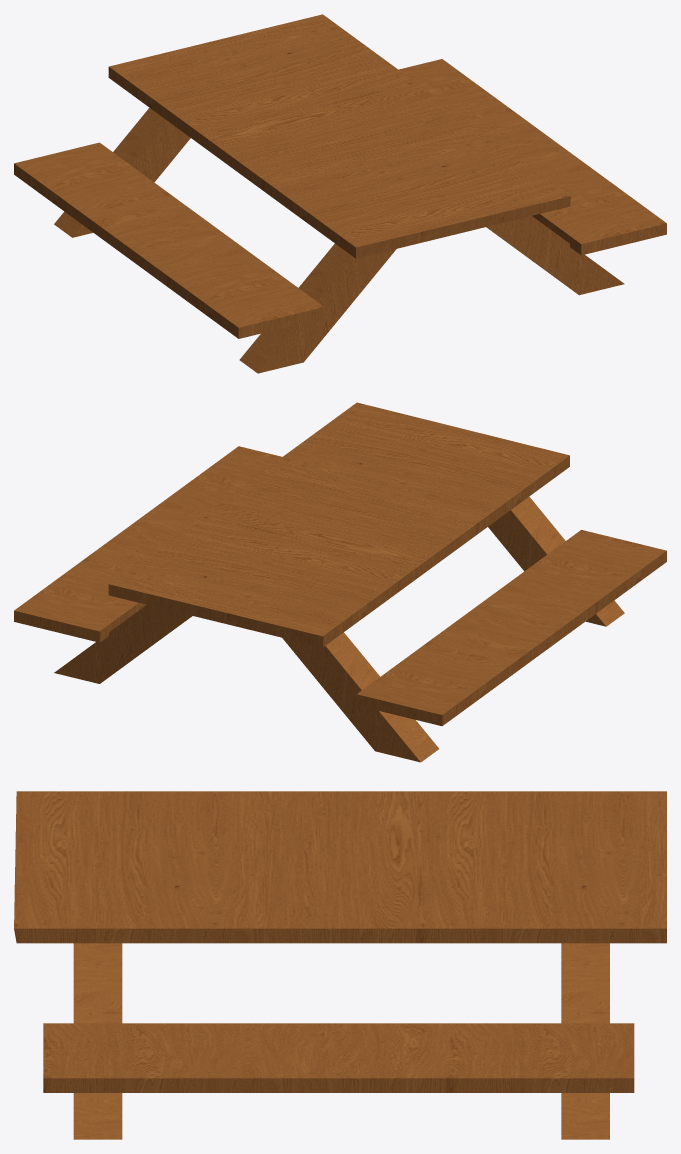
File: picknick_finished.fbx
3 views of the same model, one above another, from view 1: azimuth 30°, elevation 25°; view 2: azimuth 150°, elevation 25°; view 3: azimuth 270°, elevation 25° (orthographic). The views are drawn at different scales.
Visible parts, largest first — view 1: Plane.004, Plane.006, Plane.005, Plane.002, Plane.001, Plane; view 2: Plane.004, Plane.006, Plane.005, Plane, Plane.003, Plane.002; view 3: Plane.004, Plane.005, Plane.001, Plane.003.
Part boxes in pixels (bbox=[...]): Plane.004: bbox=[108, 14, 570, 258]; Plane.006: bbox=[14, 142, 324, 338]; Plane.005: bbox=[398, 59, 666, 255]; Plane.002: bbox=[239, 243, 396, 373]; Plane.001: bbox=[486, 216, 624, 295]; Plane: bbox=[54, 108, 190, 237]; Plane.004: bbox=[108, 402, 569, 647]; Plane.006: bbox=[356, 530, 666, 726]; Plane.005: bbox=[14, 446, 281, 642]; Plane: bbox=[282, 632, 438, 762]; Plane.003: bbox=[54, 605, 192, 683]; Plane.002: bbox=[488, 496, 624, 626]; Plane.004: bbox=[14, 791, 666, 943]; Plane.005: bbox=[43, 1023, 634, 1092]; Plane.001: bbox=[73, 943, 122, 1139]; Plane.003: bbox=[561, 943, 609, 1139].
Bounding box in the file's own units: 400 × 110 × 402.
